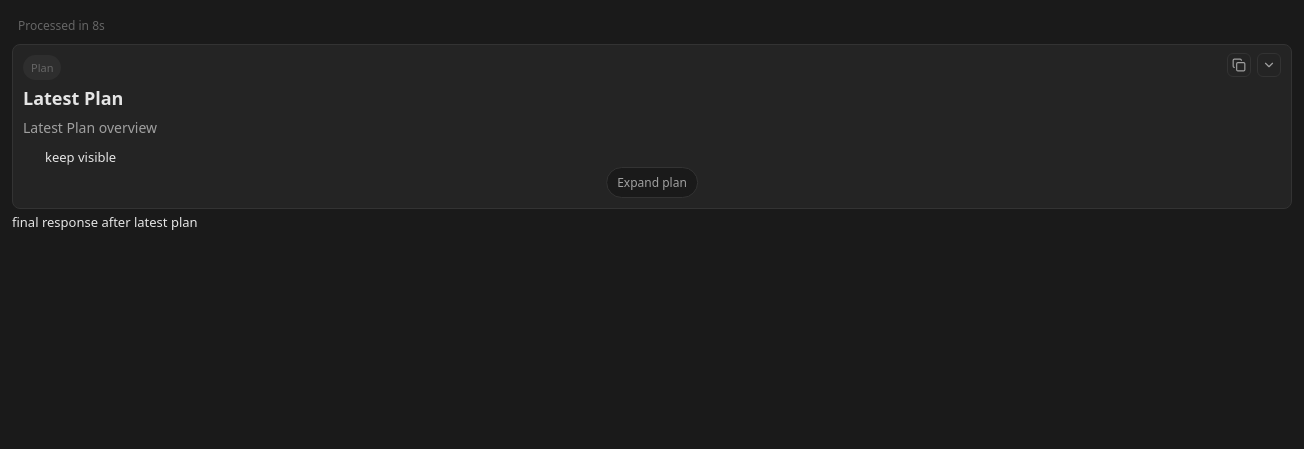
Test case: AgentResponseBlock completed turn folding › pins only the latest CreatePlan before the final message
expect the heading "Latest Plan" is shown: met, box [23,86,123,110]
expect the text "First Plan" is not shown: met
Click the button "Processed in 8s" at x=61, y=26, box [12,12,1292,40]
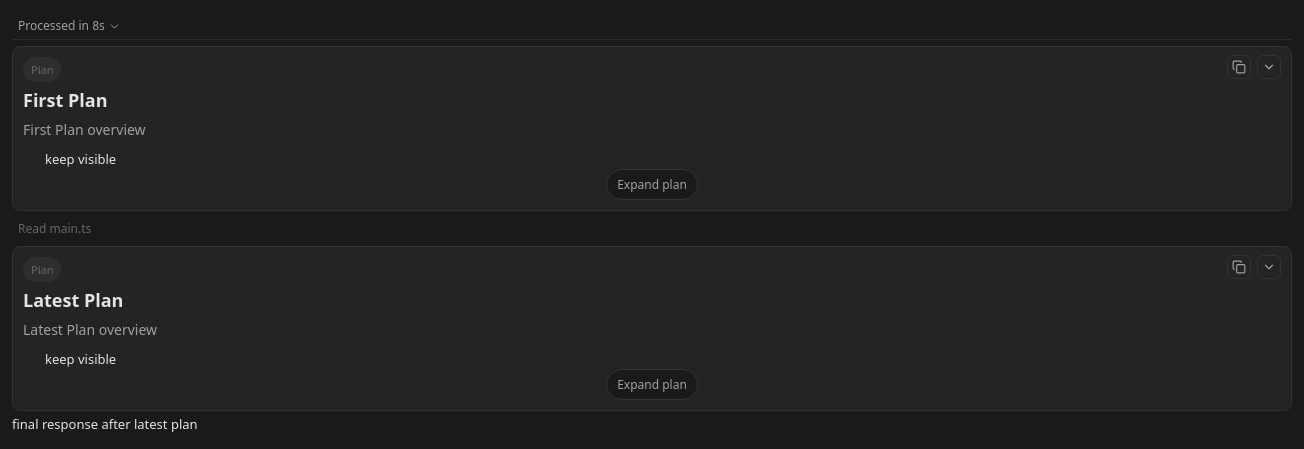
expect the heading "First Plan" is shown: met, box [23,88,108,112]
